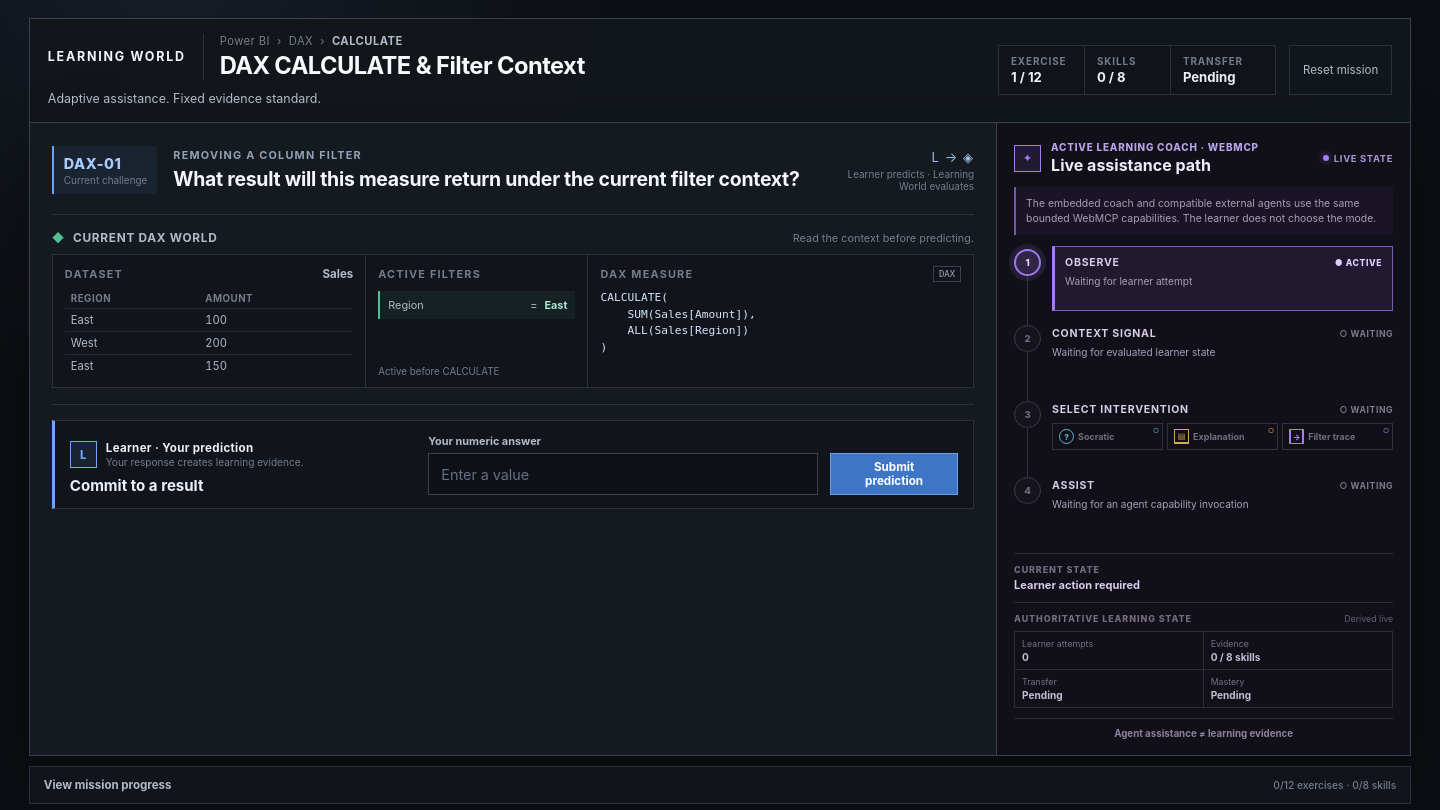
Test: embedded DAX Active Learning Coach flow › shows truthful WebMCP-unavailable state without an internal support bypass
Step 1. Type "250" into the number field labelled "Your numeric answer" → (623, 474), box [428,453,818,495]
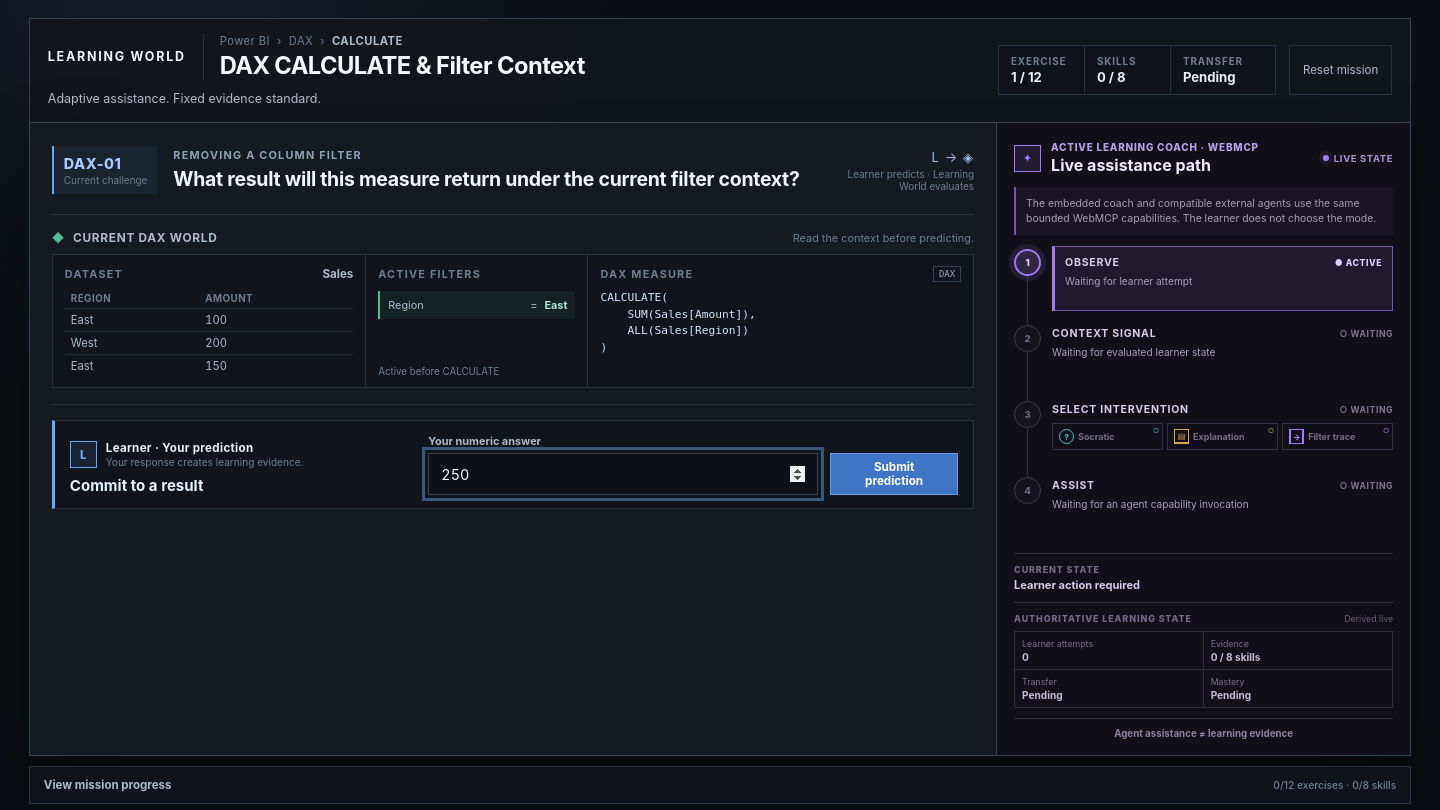
Step 2. Click the button "Submit prediction" → (894, 474), box [830,453,958,495]
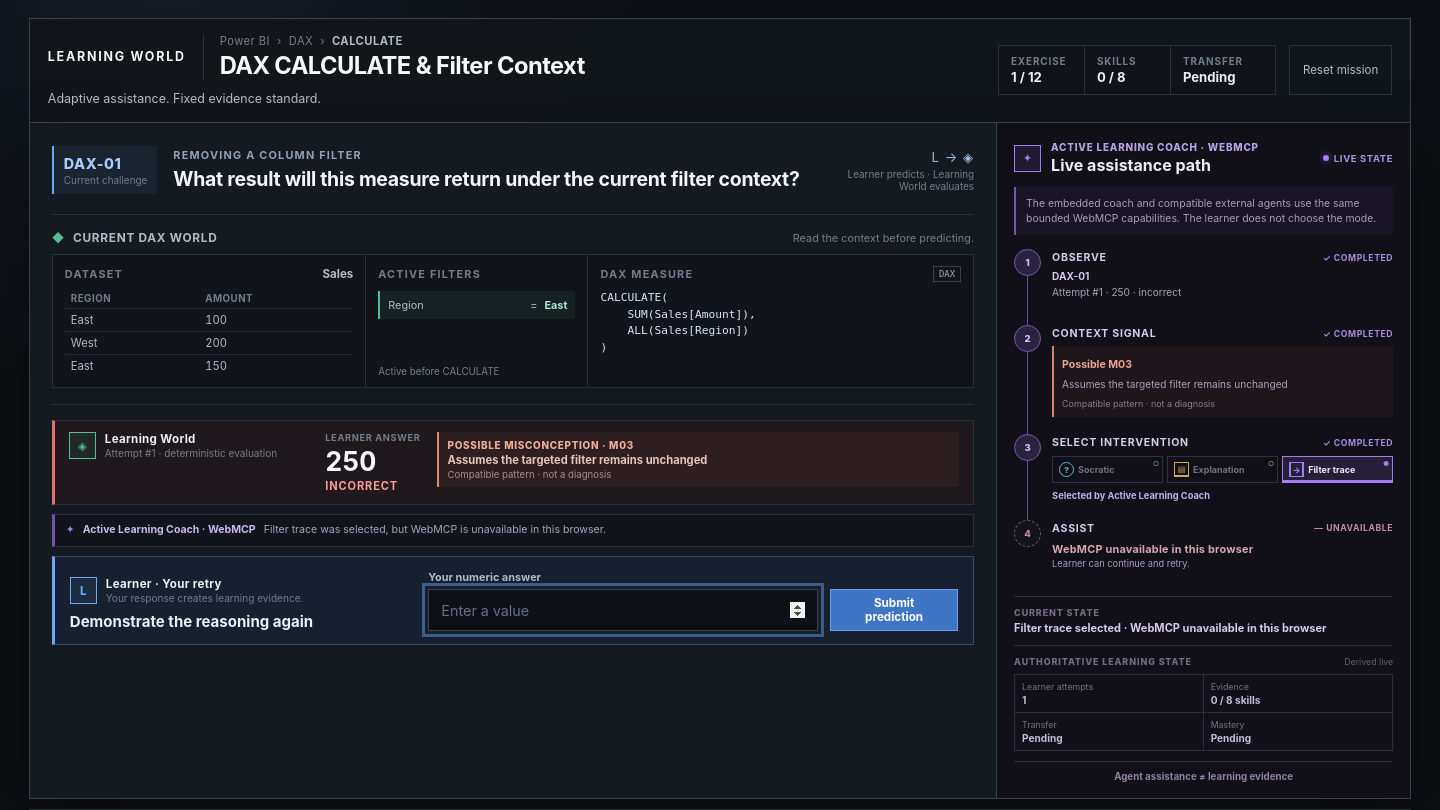
expect the number field labelled "Your numeric answer" is enabled: met, box [428,589,818,631]
expect the element named "AI Agent live path" shows "WebMCP unavailable in this browser": met, box [1052,542,1253,556]
